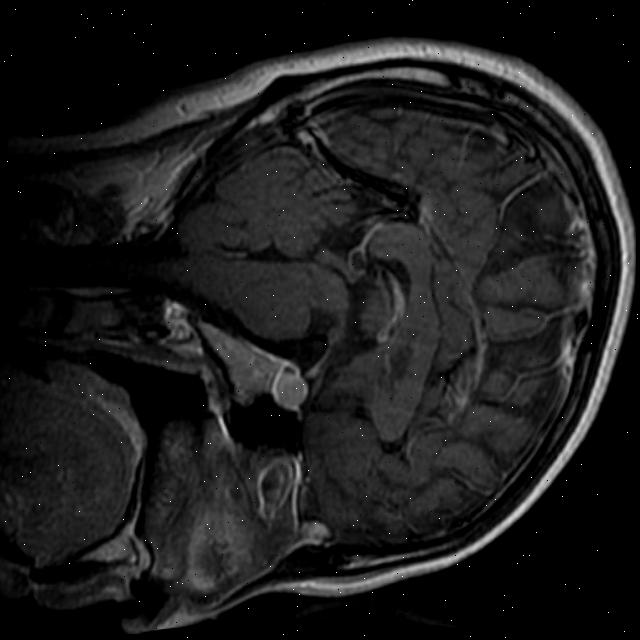Pituitary: (272, 370, 308, 412)
